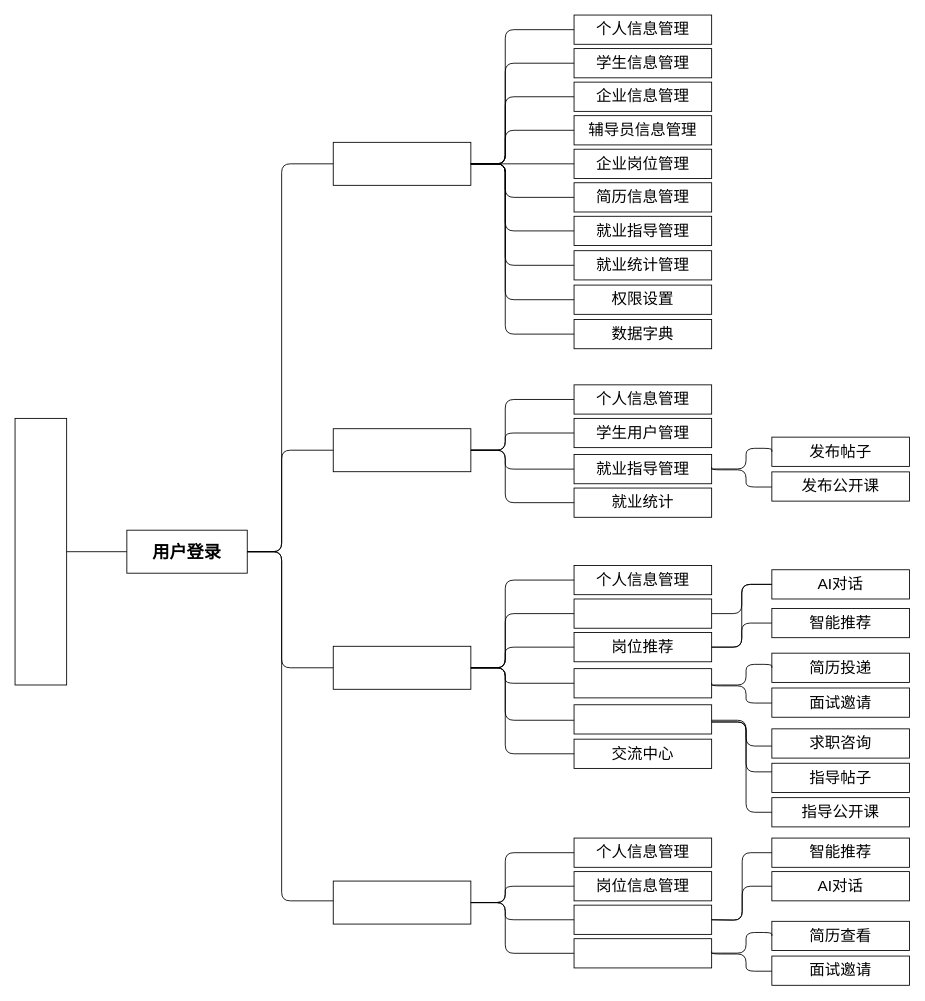
This 925x1001 diagram has some shape labels left out. Each missing label, with the centre of its shape:
"企业模块" belongs at point 401,902.
"学生模块" belongs at point 401,667.
"就 业 指 导 系 统 功 能 模 块" belongs at point 40,551.
"就业指导" belongs at point 642,719.
"应聘信息管理" belongs at point 642,953.
"我的应聘记录" belongs at point 642,683.
"求职者推荐" belongs at point 642,919.
"简历管理" belongs at point 642,613.
"管理员模块" belongs at point 401,163.
"辅导员模块" belongs at point 401,450.
